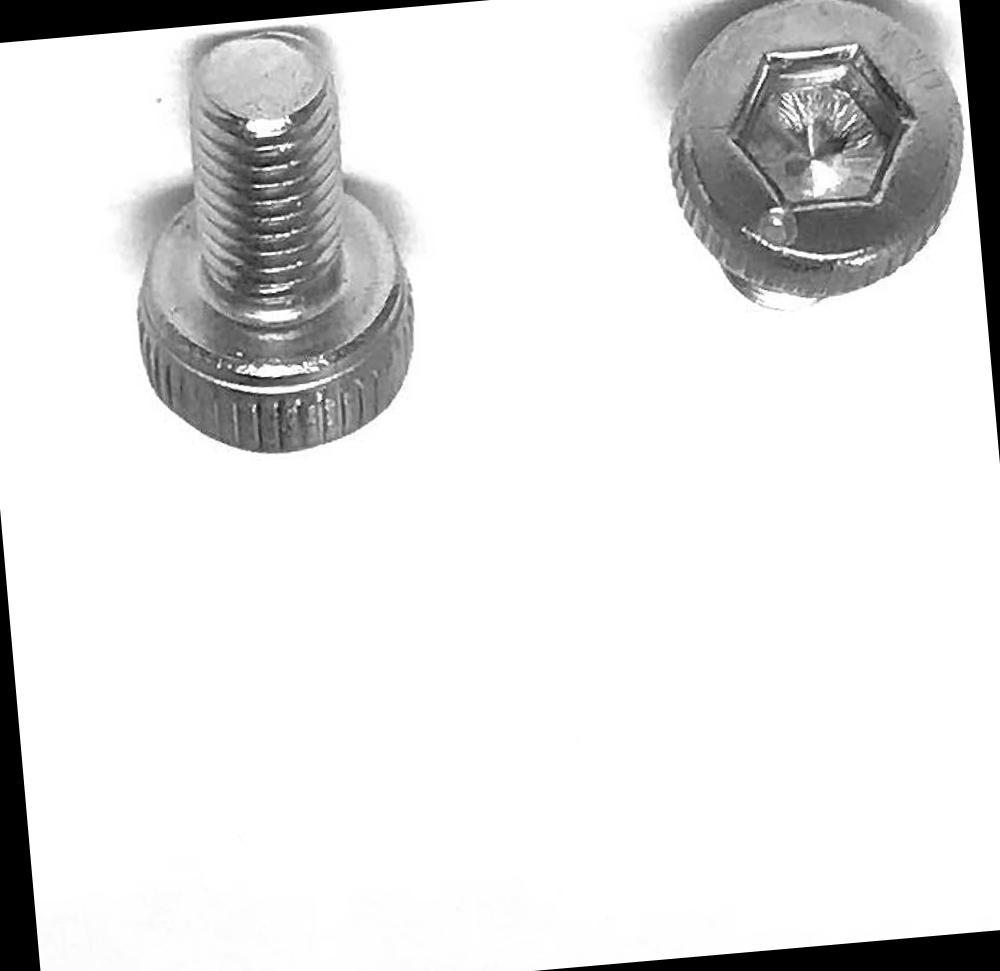screw: (658, 0, 975, 301)
